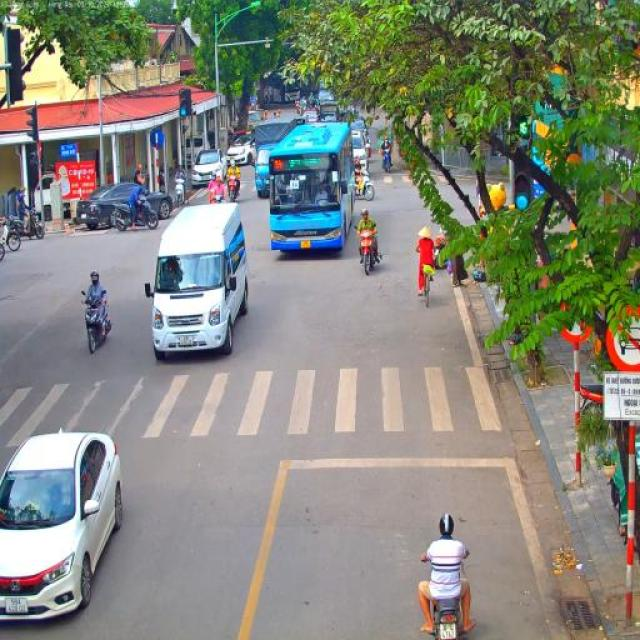bus: (144, 202, 250, 362), (268, 120, 356, 254), (272, 79, 302, 103), (317, 102, 338, 123)
car: (0, 427, 124, 624), (75, 182, 174, 228), (191, 148, 228, 188), (227, 129, 257, 165), (350, 130, 369, 171), (303, 110, 318, 122), (295, 116, 309, 126)
motorcycle: (421, 547, 468, 640), (81, 290, 113, 354), (109, 200, 160, 231), (357, 228, 382, 276), (10, 206, 45, 240), (0, 215, 21, 251), (432, 232, 448, 269), (354, 174, 375, 202), (174, 178, 187, 208), (227, 176, 239, 203), (381, 148, 393, 174), (207, 192, 223, 204)
truck: (254, 119, 298, 200)
